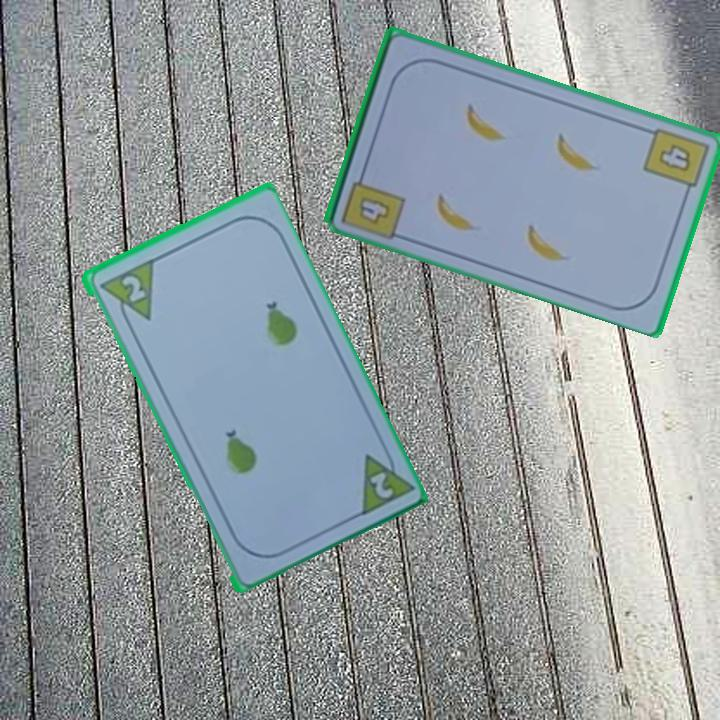2p: (353, 440, 414, 520), (117, 271, 148, 305)
4b: (640, 124, 712, 200), (355, 192, 394, 227)
